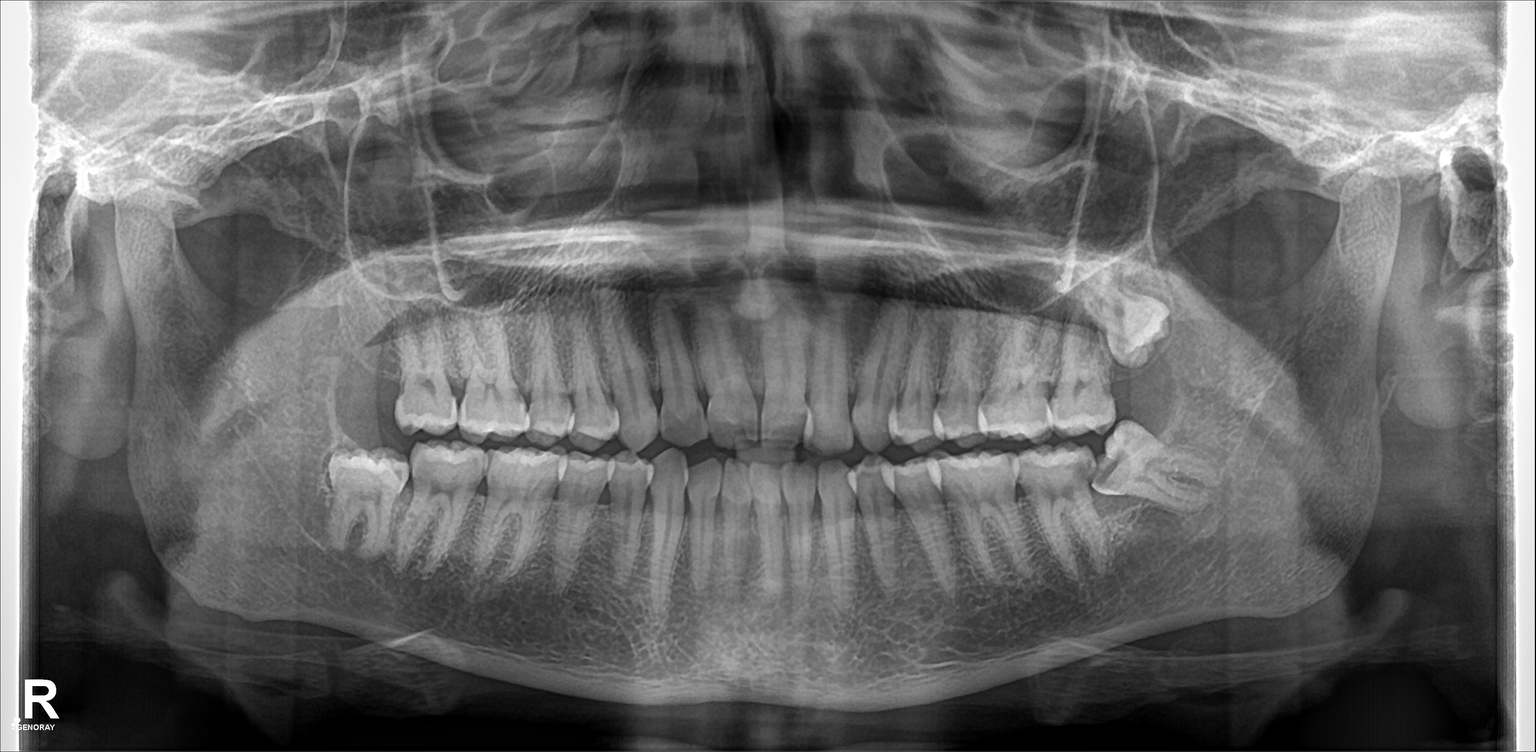Impacted Third Molar: (1099, 430, 1216, 512), (324, 454, 404, 560), (1084, 270, 1171, 353)
Missing Tooth: (345, 322, 402, 428)
